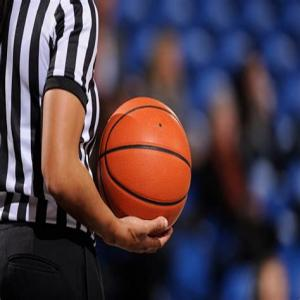Basket: (98, 95, 193, 238)
